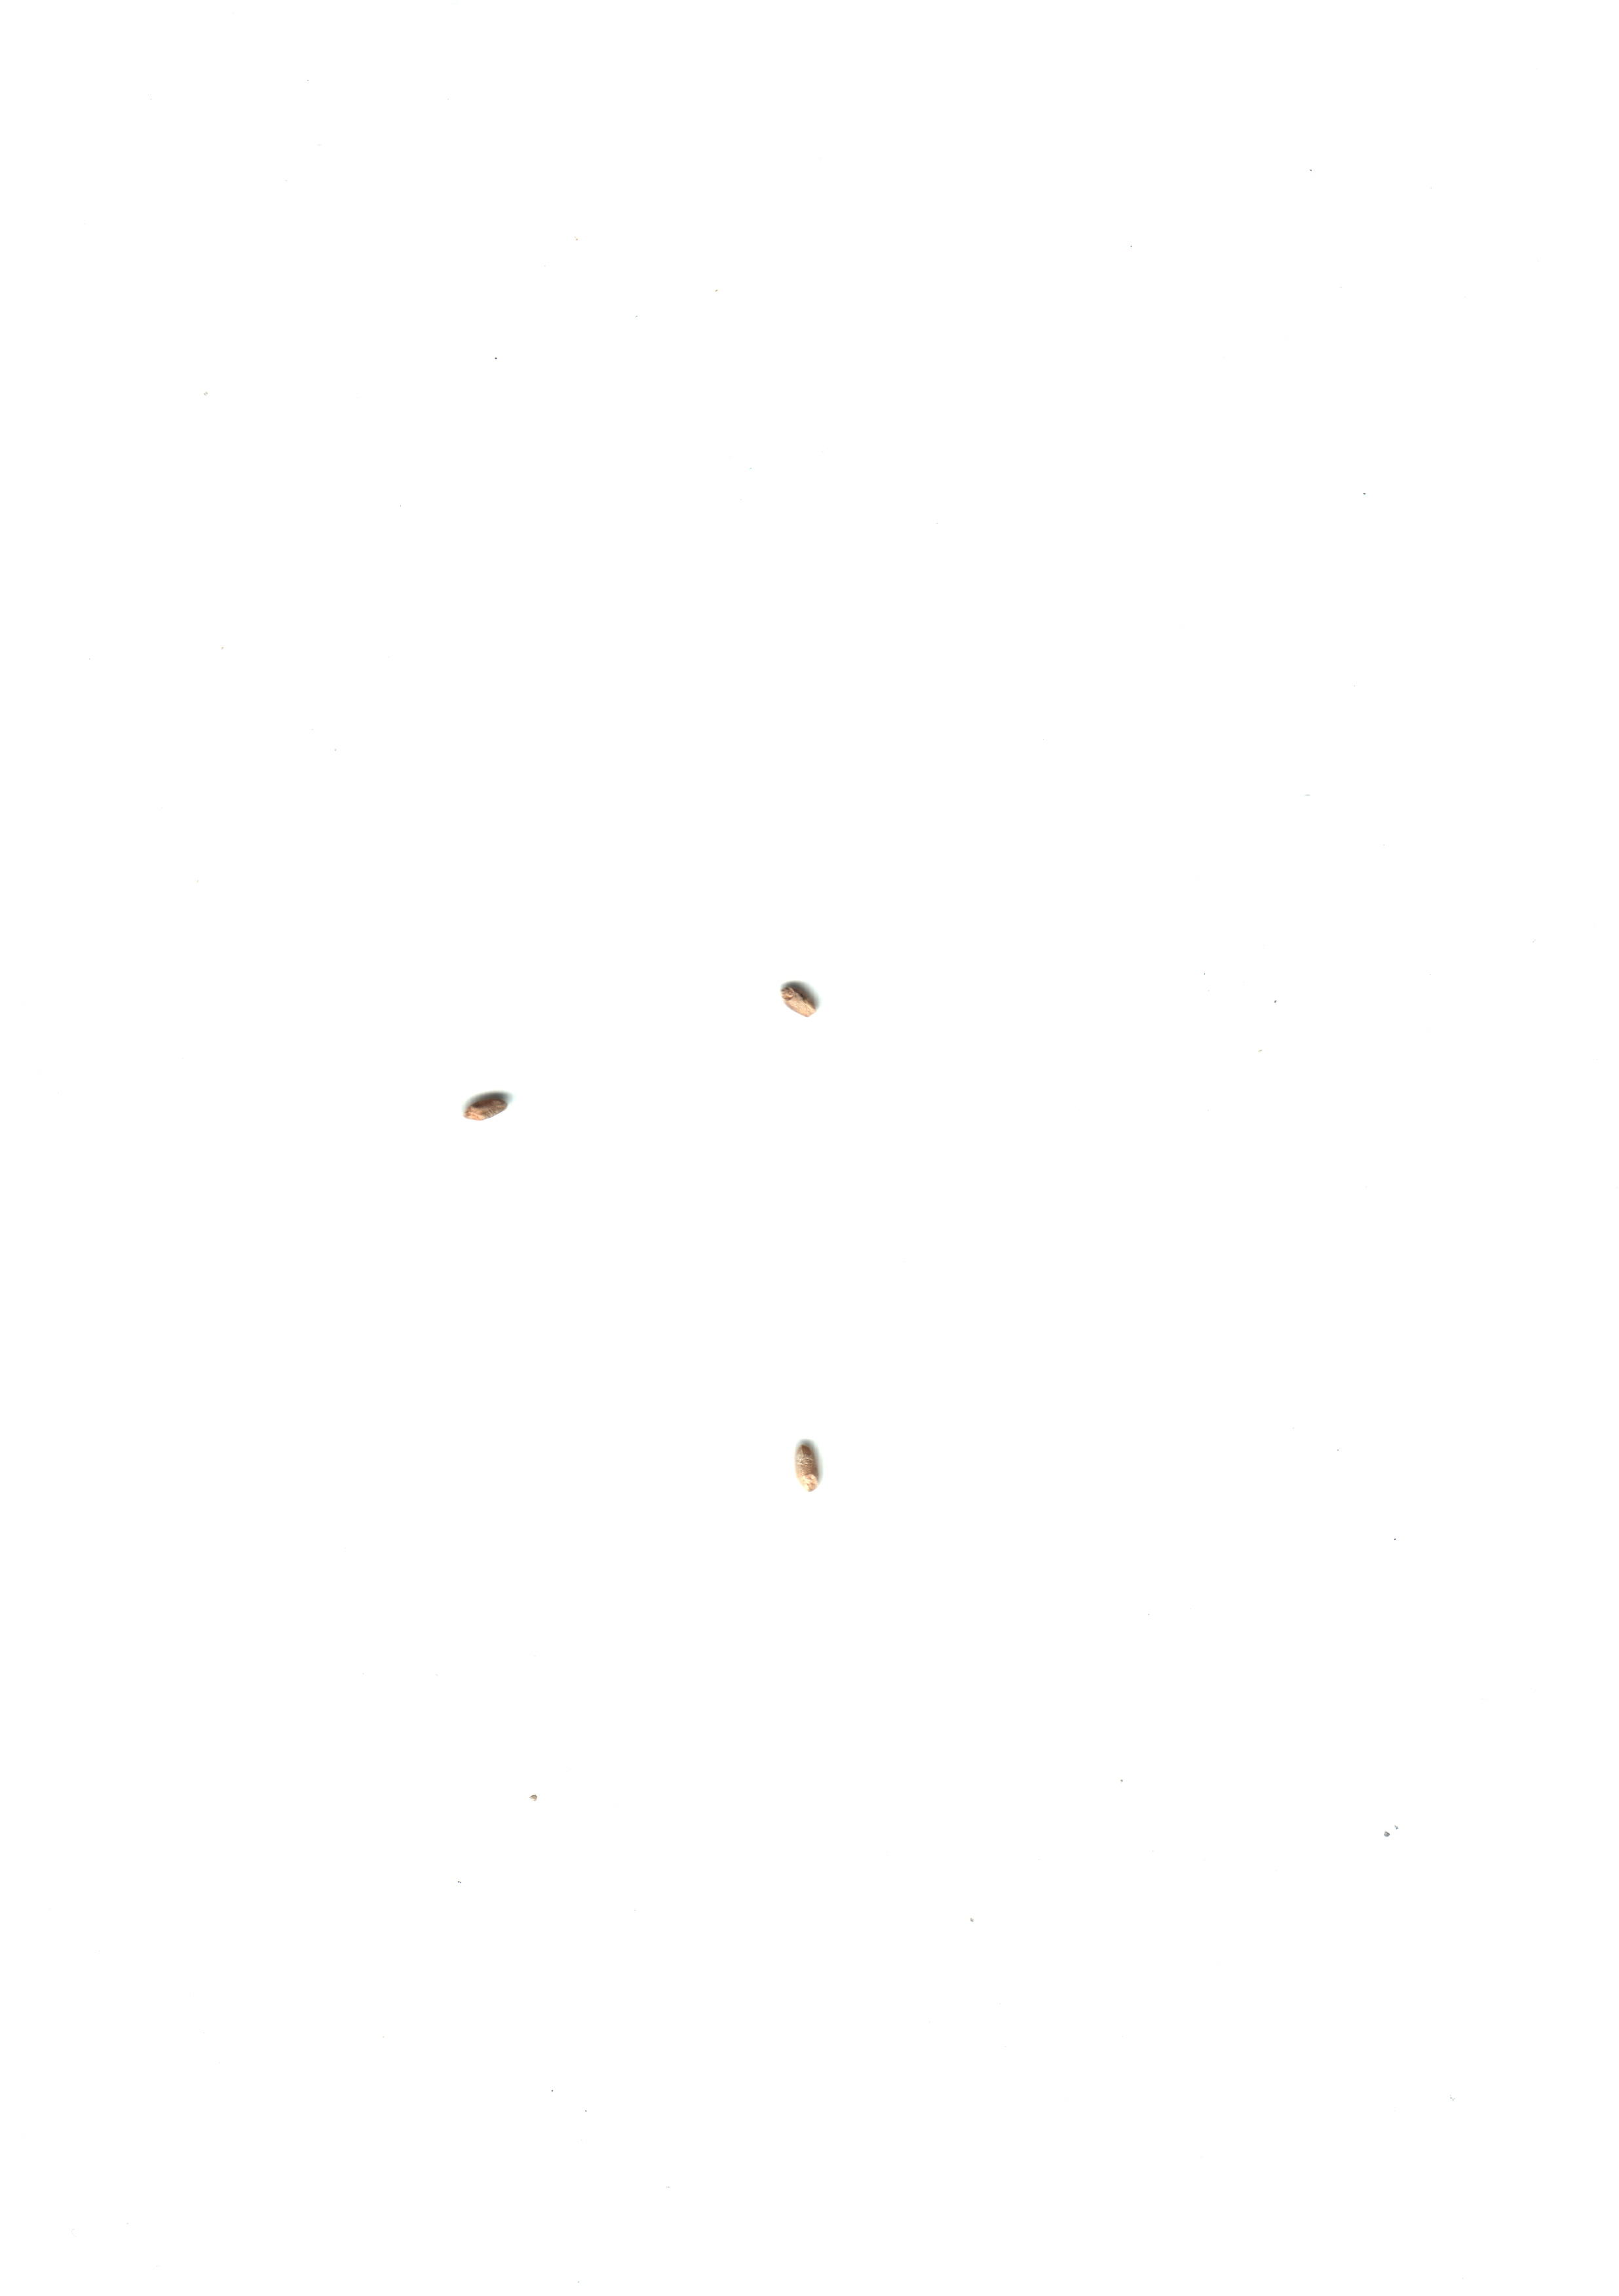grains_2_5mm: (771, 1418, 852, 1507), (452, 1062, 533, 1150), (757, 959, 838, 1046)
